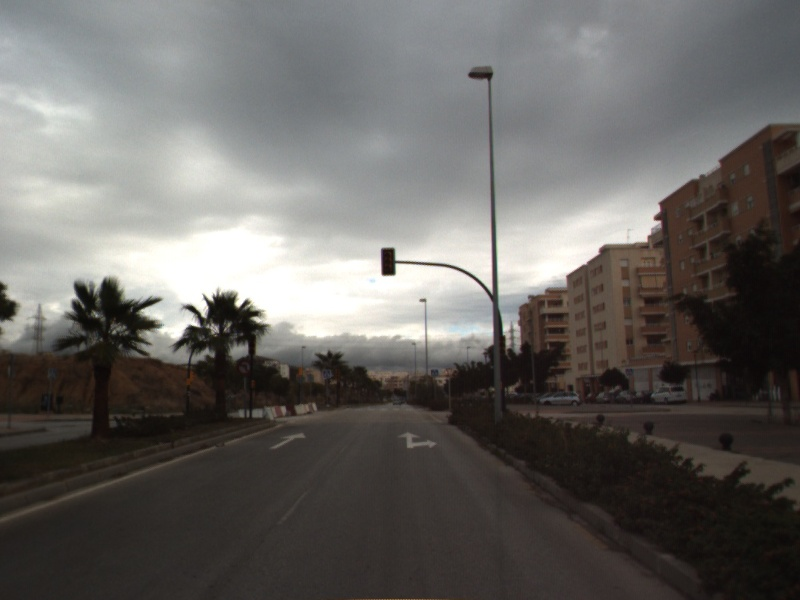STRAIGHT: (268, 430, 309, 451)
STRAIGHT_RIGHT: (395, 430, 439, 450)
